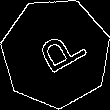P_SW: (25, 25, 87, 81)
